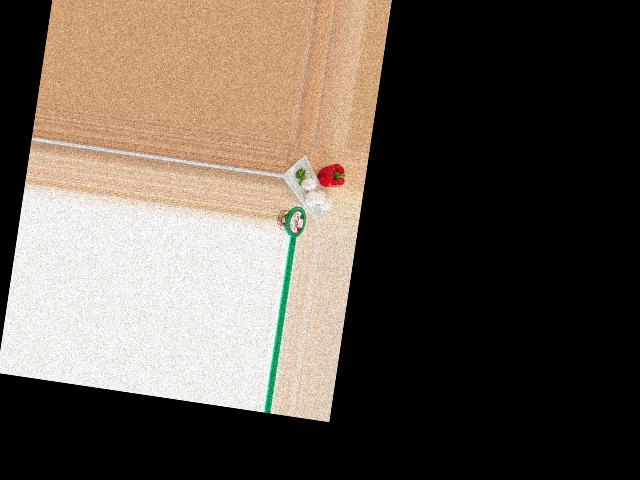bell_pepper: (316, 159, 346, 193)
